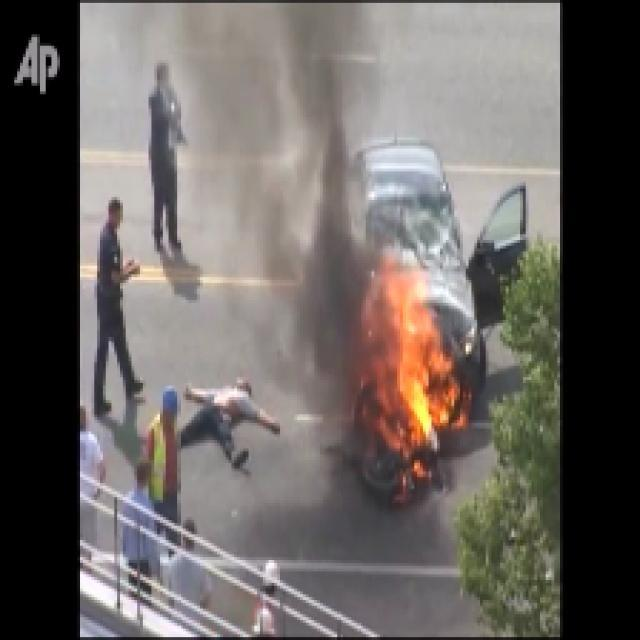Fire: (396, 335, 448, 445)
Smoke: (303, 230, 368, 384)
